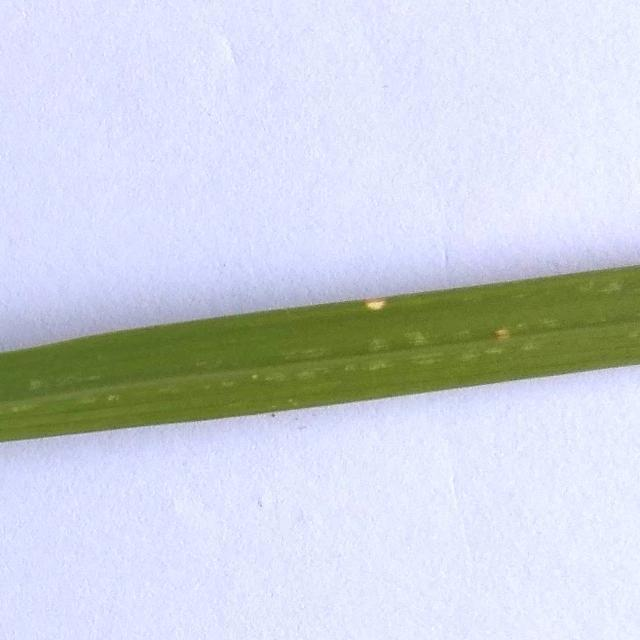Blast: (494, 326, 521, 342), (356, 298, 388, 309)
